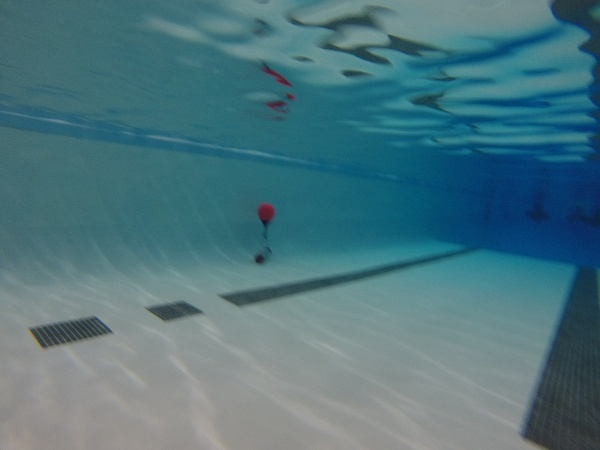buoy_red: (256, 200, 276, 227)
